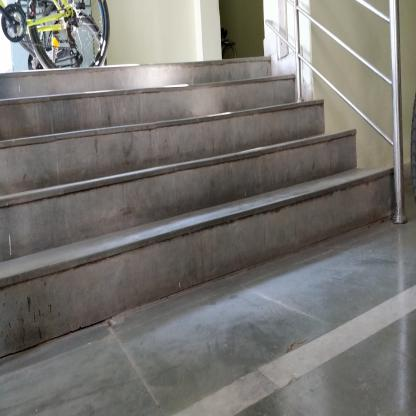stairs: (13, 62, 278, 341)
